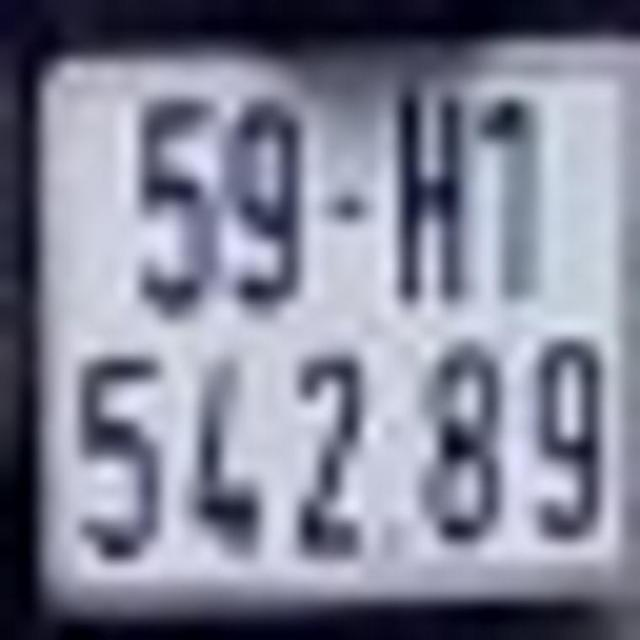1: (480, 85, 539, 306)
2: (293, 350, 367, 562)
4: (186, 344, 265, 574)
5: (74, 350, 162, 566), (136, 92, 220, 316)
8: (423, 340, 506, 540)
9: (223, 96, 309, 316), (533, 338, 602, 545)
H: (392, 79, 467, 304)
